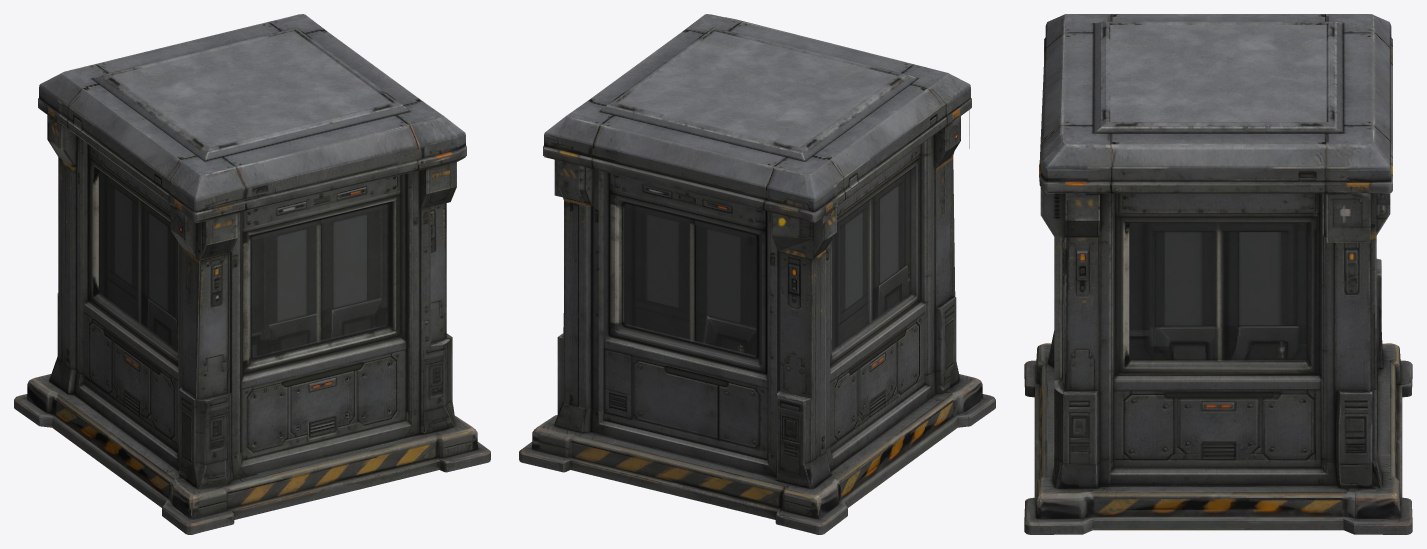
File: prop_booth.glb
3 views of the same model, side by side, from view 1: azimuth 30°, elevation 25°; view 2: azimuth 150°, elevation 25°; view 3: azimuth 270°, elevation 25° (orthographic). The views are drawn at different scales.
Parts seen in each view (by area): view 1: Mesh_0; view 2: Mesh_0; view 3: Mesh_0.
Part boxes in pixels (bbox=[...]): Mesh_0: bbox=[14, 14, 490, 534]; Mesh_0: bbox=[519, 14, 995, 534]; Mesh_0: bbox=[1024, 14, 1412, 534].
Bounding box in the file's own units: 1.77 × 1.91 × 1.77.
Materials: 1 (1 with a texture image).
